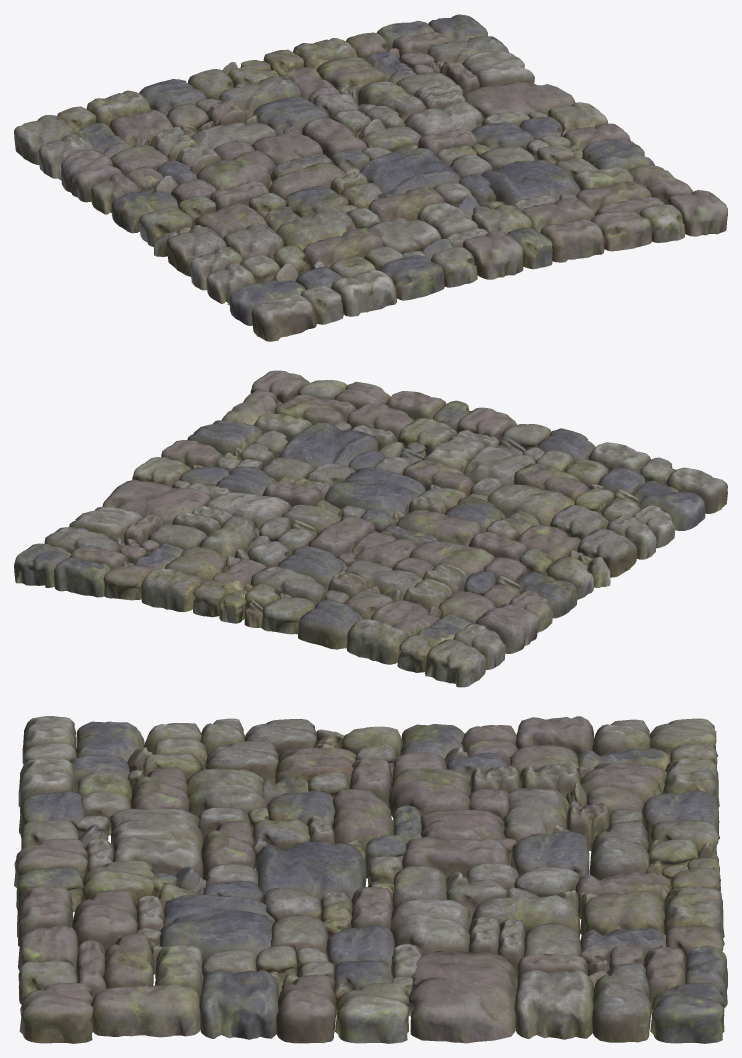
The model's file is SM_Cobbles_4M.fbx.
3 renders of one model, top to bottom at view 1: azimuth 30°, elevation 25°; view 2: azimuth 150°, elevation 25°; view 3: azimuth 270°, elevation 25°, orthographic. The views are drawn at different scales.
Parts seen in each view (by area): view 1: SM_Cobbles_4M_LOD0; view 2: SM_Cobbles_4M_LOD0; view 3: SM_Cobbles_4M_LOD0.
Part boxes in pixels (bbox=[...]): SM_Cobbles_4M_LOD0: bbox=[14, 14, 727, 341]; SM_Cobbles_4M_LOD0: bbox=[14, 370, 727, 687]; SM_Cobbles_4M_LOD0: bbox=[14, 716, 727, 1043].
Bounding box in the file's own units: 418 × 422 × 34.42.
